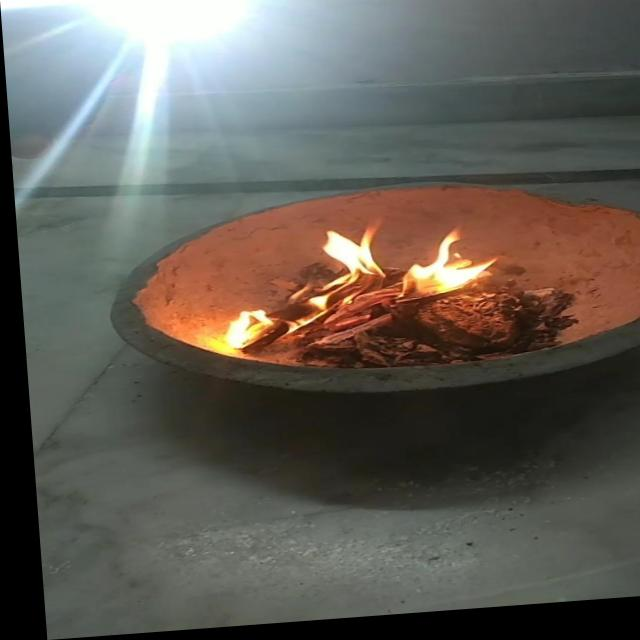fire: (388, 228, 515, 317), (315, 225, 395, 302), (205, 307, 279, 361)
